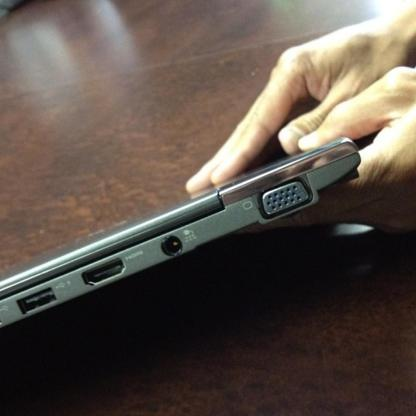board: (0, 138, 360, 327)
